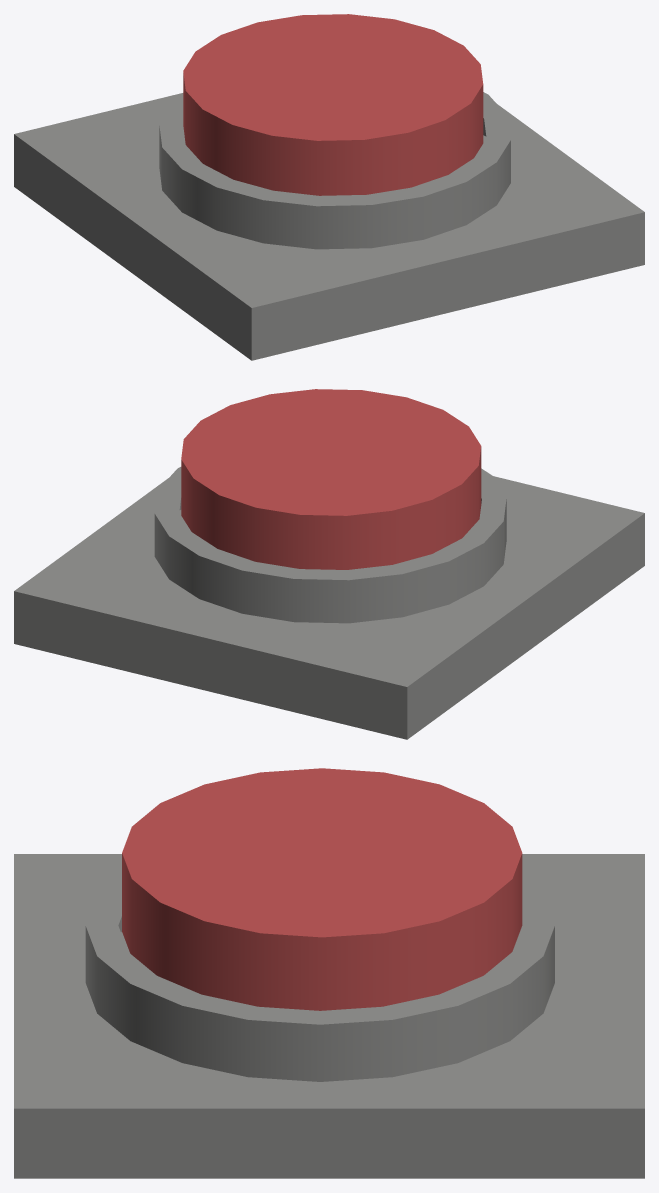
The model's file is Red_Button_Animated.fbx.
3 views of the same model, one above another, from view 1: azimuth 30°, elevation 25°; view 2: azimuth 150°, elevation 25°; view 3: azimuth 270°, elevation 25° (orthographic). The views are drawn at different scales.
Visible parts, largest first — view 1: pCube3620, pCylinder16; view 2: pCube3620, pCylinder16; view 3: pCube3620, pCylinder16.
Part boxes in pixels (x1,y1,x2,y2): pCube3620: [14, 92, 644, 360]; pCylinder16: [183, 14, 483, 195]; pCube3620: [14, 467, 644, 739]; pCylinder16: [181, 389, 481, 569]; pCube3620: [14, 854, 644, 1178]; pCylinder16: [122, 768, 522, 1010].
Size of the model in its own units: 0.7297 by 0.2662 by 0.7642.
